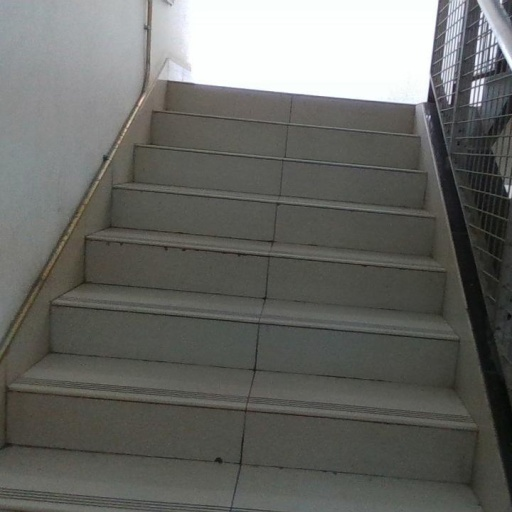Stairs: (2, 81, 512, 512)
